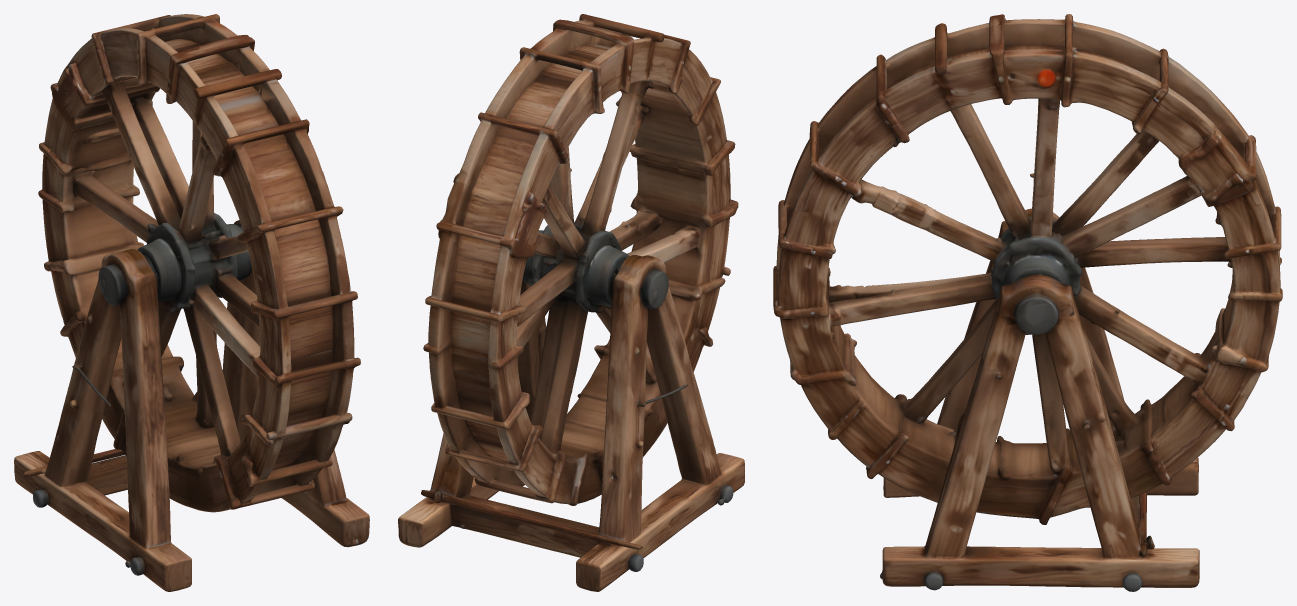
File: prop-wheel-water.glb
The picture shows the model from 3 angles, left to right: view 1: azimuth 30°, elevation 25°; view 2: azimuth 150°, elevation 25°; view 3: azimuth 270°, elevation 25°; orthographic projection. The views are drawn at different scales.
Visible parts, largest first — view 1: tripo_node_4ea72a3c-734d-422b-90d4-36995adc7334; view 2: tripo_node_4ea72a3c-734d-422b-90d4-36995adc7334; view 3: tripo_node_4ea72a3c-734d-422b-90d4-36995adc7334.
Part boxes in pixels (left/top/right/bottom): tripo_node_4ea72a3c-734d-422b-90d4-36995adc7334: left=14, top=14, right=369, bottom=591; tripo_node_4ea72a3c-734d-422b-90d4-36995adc7334: left=398, top=14, right=744, bottom=591; tripo_node_4ea72a3c-734d-422b-90d4-36995adc7334: left=773, top=14, right=1282, bottom=591.
Size of the model in its own units: 3.02 by 6 by 5.46.
1 material, 1 textured.
